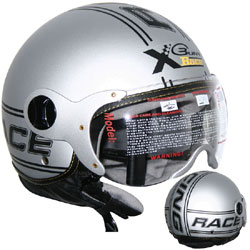helmet: (11, 10, 217, 186), (175, 175, 243, 242)
